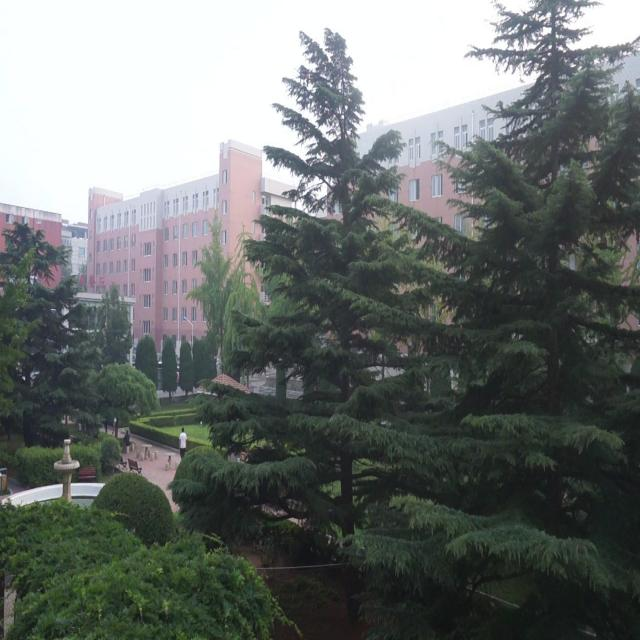UAV: (293, 64, 316, 88)
